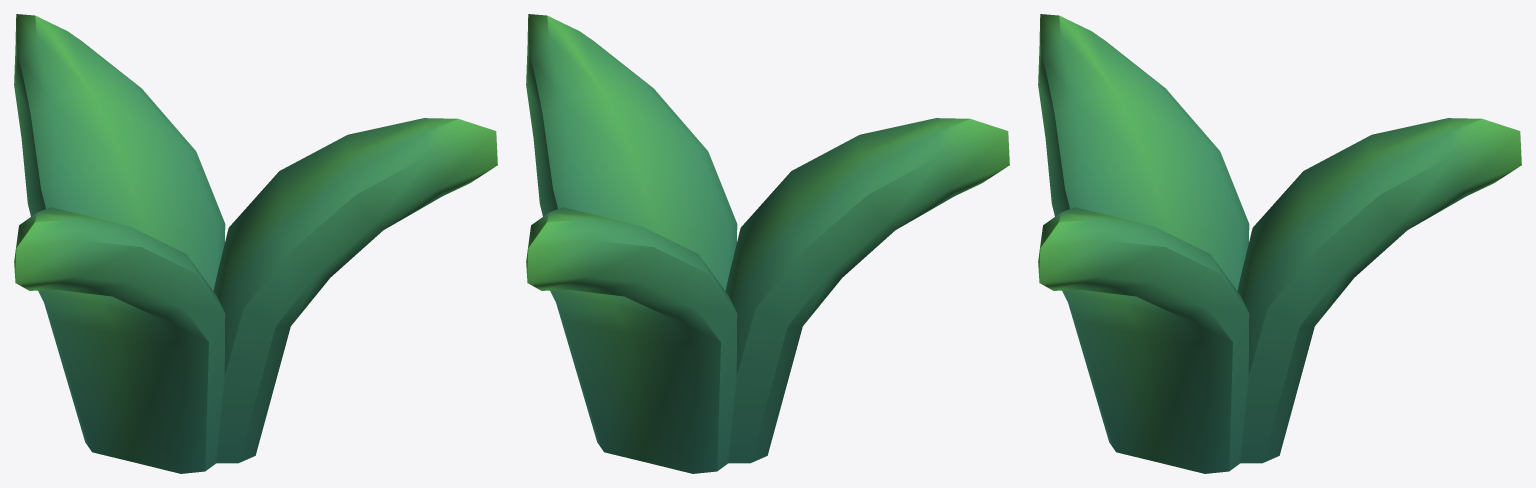
Rendered from grass_A.fbx.
3 renders of one model, left to right at view 1: azimuth 30°, elevation 25°; view 2: azimuth 150°, elevation 25°; view 3: azimuth 270°, elevation 25°, orthographic.
Visible parts, largest first — view 1: grass_A; view 2: grass_A; view 3: grass_A.
Boxes of the visible parts, box(x1,y1,x2,y2) form: grass_A: box(14, 14, 497, 473); grass_A: box(526, 14, 1009, 473); grass_A: box(1038, 14, 1521, 473).
Bounding box in the file's own units: 0.6439 × 0.4022 × 0.5592.
